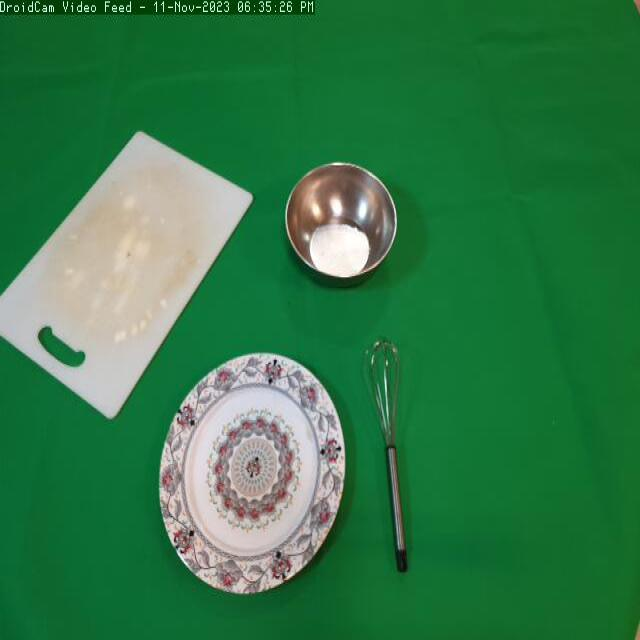bowl: (284, 158, 400, 293)
cutting board: (2, 128, 260, 426)
plate: (158, 347, 358, 605)
whisk: (360, 328, 441, 582)
